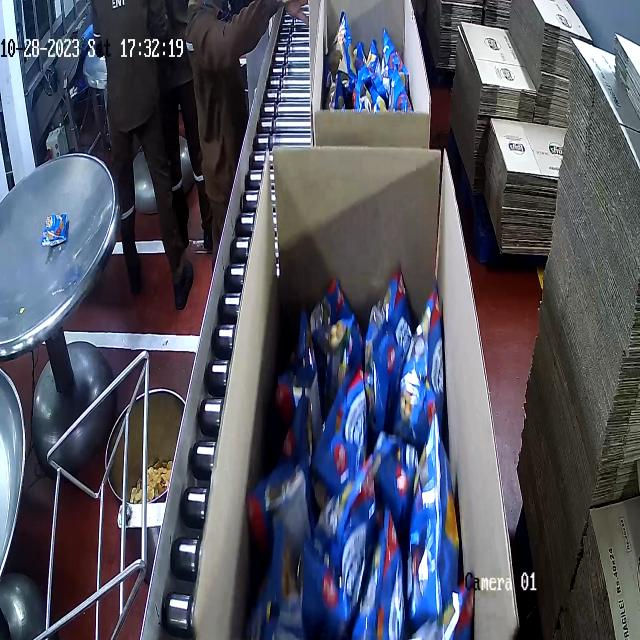PAPRIKA: (278, 273, 470, 640), (311, 14, 414, 112)
